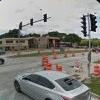Car: (11, 67, 91, 100)
